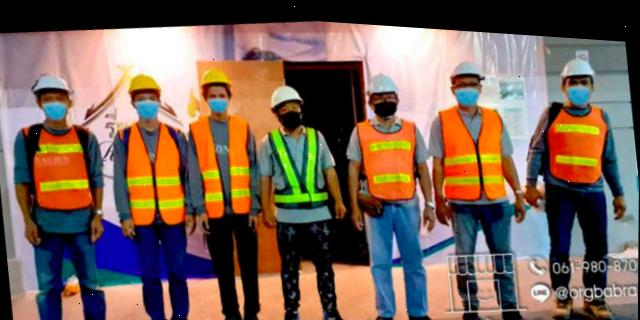helmet: (266, 75, 305, 105), (557, 45, 595, 73), (32, 68, 71, 94), (197, 60, 232, 88), (447, 50, 486, 74), (364, 63, 397, 89), (127, 68, 159, 93)
vest: (20, 114, 102, 217), (116, 115, 185, 226), (188, 106, 255, 215), (436, 97, 507, 197), (546, 87, 608, 181), (266, 119, 329, 207), (355, 111, 418, 199)
